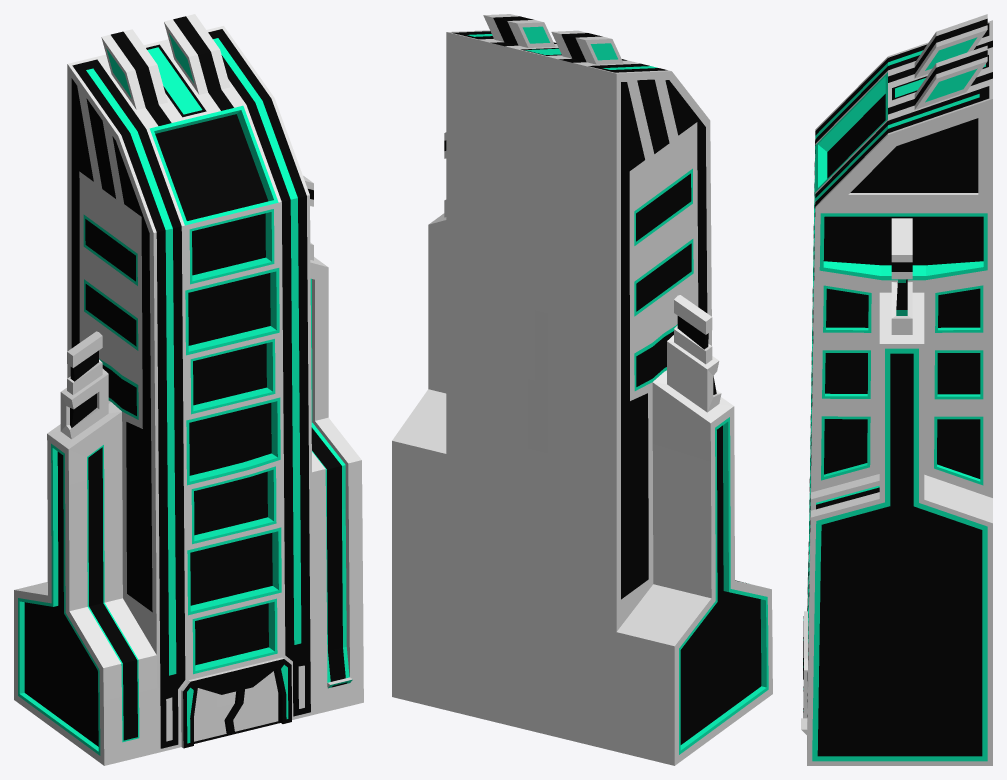
File: sci-fi-building.fbx
The picture shows the model from 3 angles, left to right: view 1: azimuth 30°, elevation 25°; view 2: azimuth 150°, elevation 25°; view 3: azimuth 270°, elevation 25°; orthographic projection. The views are drawn at different scales.
Parts seen in each view (by area): view 1: Cube_Black_0, Cube_Base White_0, Cube_Blue Em_0; view 2: Cube_Base White_0, Cube_Black_0, Cube_Blue Em_0; view 3: Cube_Black_0, Cube_Base White_0, Cube_Blue Em_0.
Part boxes in pixels (<box>): Cube_Black_0: <box>24,16,347,748</box>; Cube_Base White_0: <box>14,14,363,765</box>; Cube_Blue Em_0: <box>18,33,352,755</box>; Cube_Base White_0: <box>392,14,772,765</box>; Cube_Black_0: <box>444,16,761,744</box>; Cube_Blue Em_0: <box>467,26,768,754</box>; Cube_Black_0: <box>803,18,992,756</box>; Cube_Base White_0: <box>801,14,992,765</box>; Cube_Blue Em_0: <box>803,37,987,761</box>.
Bounding box in the file's own units: 33222 × 78776 × 20629.
